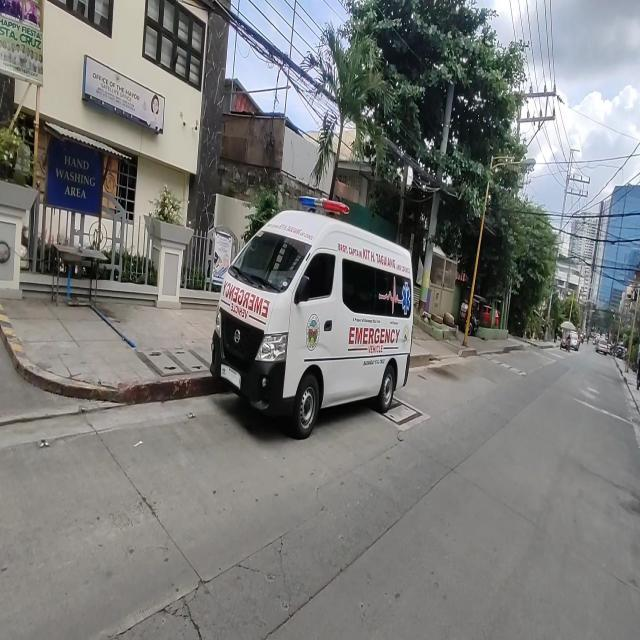emergency-vehicle: (208, 190, 418, 442), (218, 274, 270, 320), (344, 322, 402, 357)
